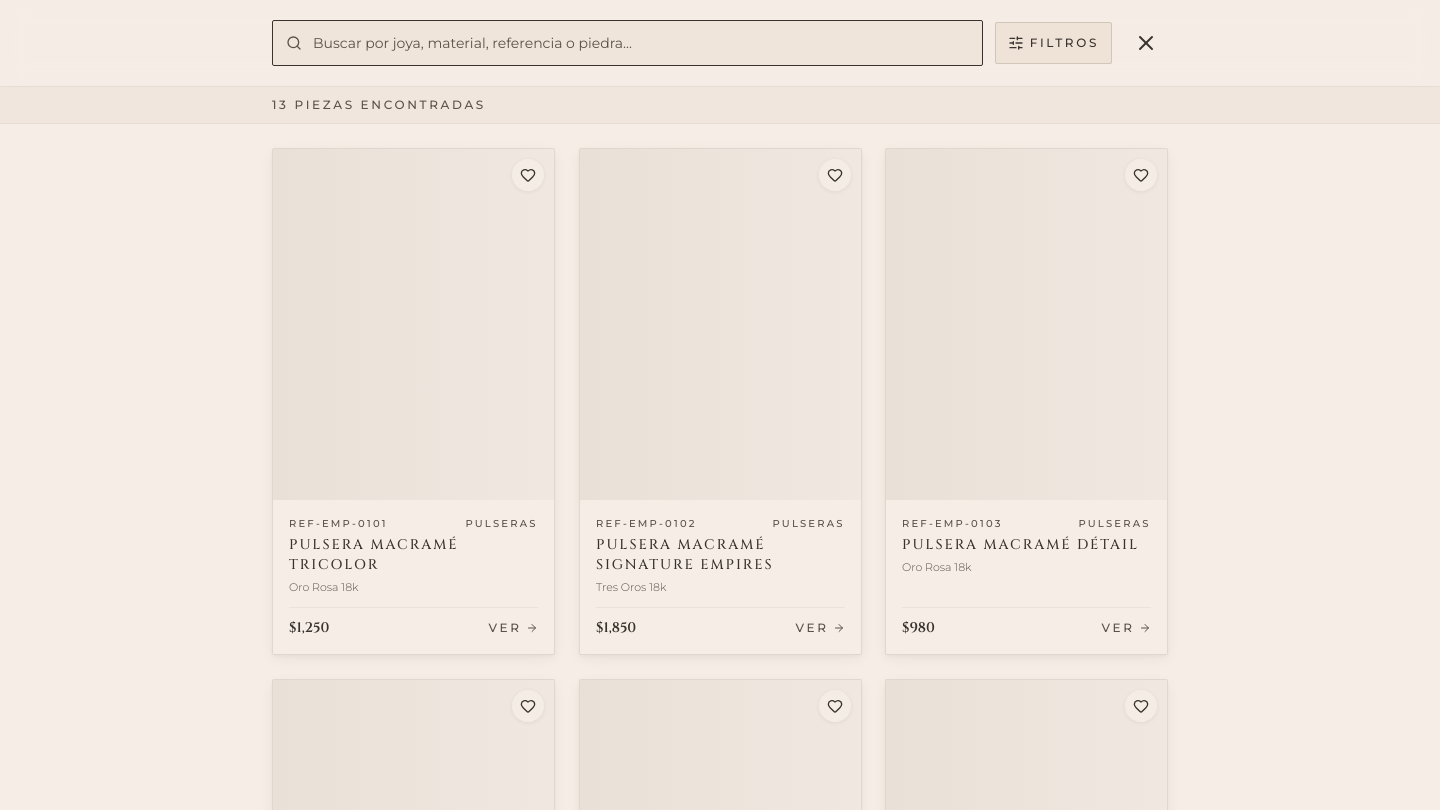
Scenario: Tier 1 - R4: Instant Search, Live Filters, Favorites & Bottom Nav › T1-R4-01: Search input dynamically filters catalog pieces instantaneously
In the field with placeholder "Buscar por joya, material, referencia o piedra...": [627, 43] box [272, 20, 983, 66], type "Esmeralda"
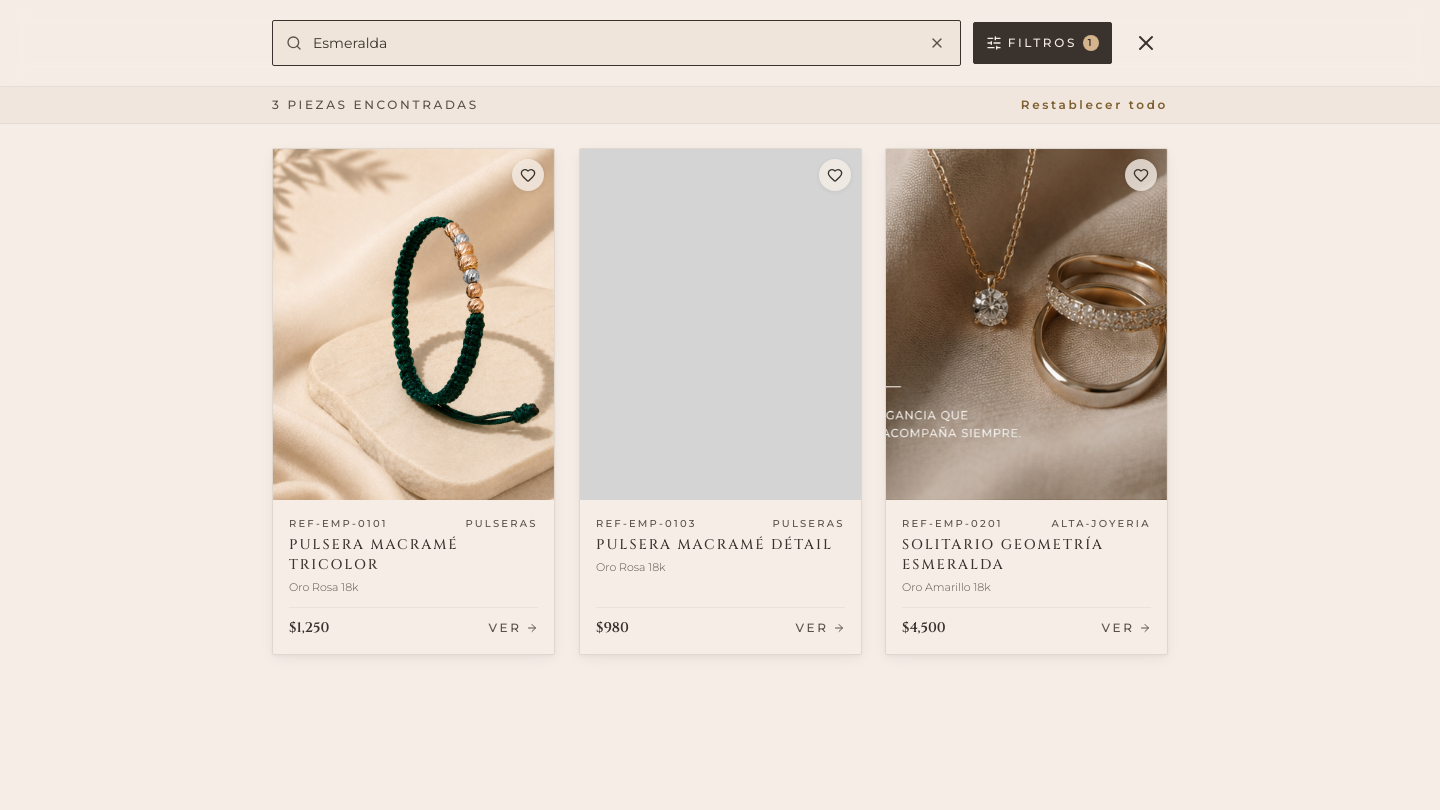
Check: the heading "Solitario Geometría Esmeralda" is shown, box [902, 535, 1104, 574]
